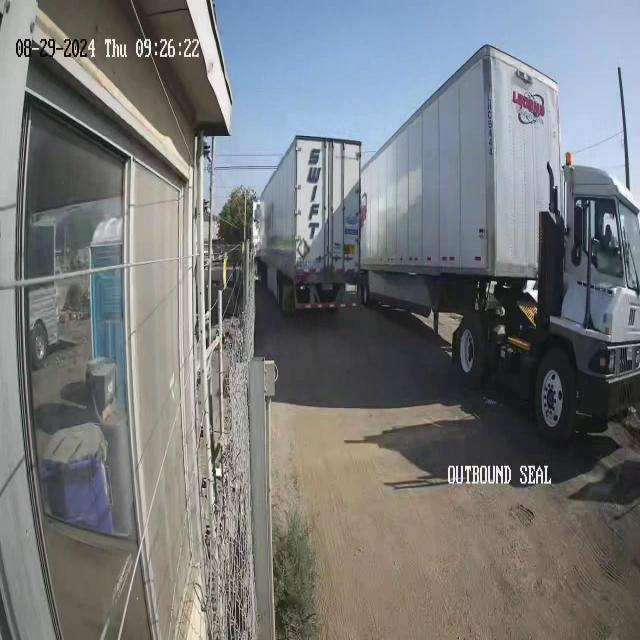TRUCK_IN: (367, 48, 637, 461)
TRUCK_OUT: (257, 132, 367, 315)
